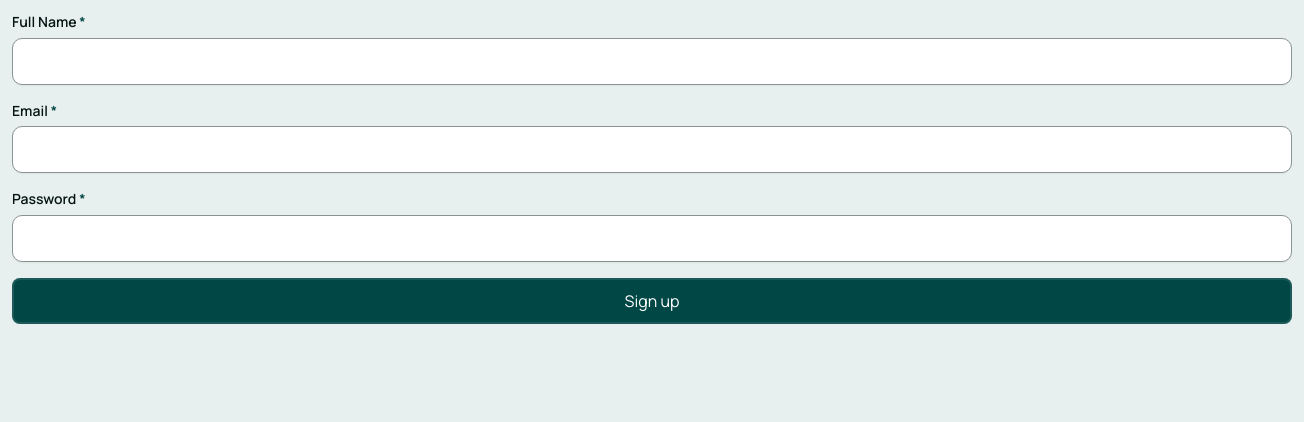
SignUpForm › shows required errors on empty submit
Click the button "Sign up": {"x": 652, "y": 301} [12,278,1292,324]
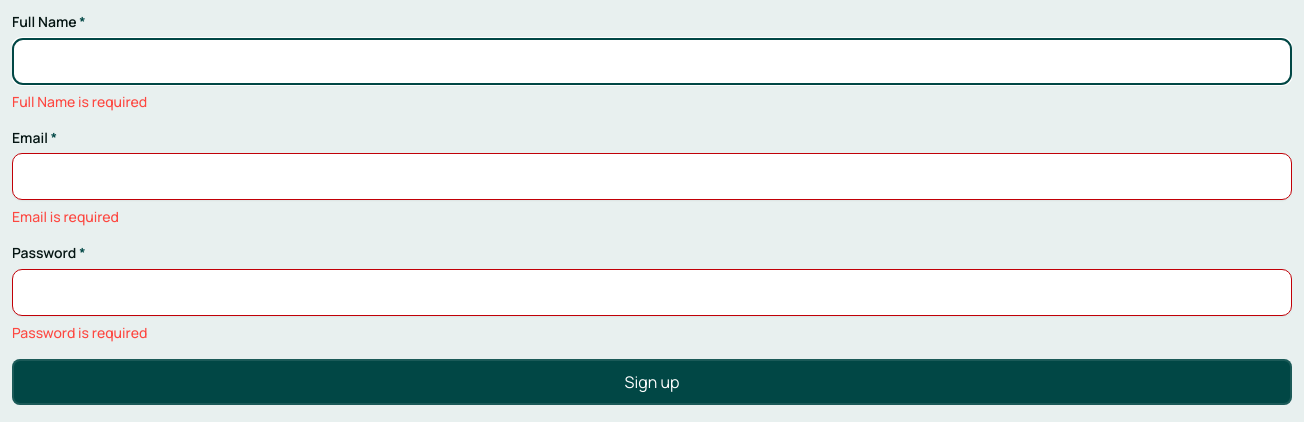
Check: the text "Full Name is required" is shown, box [12,92,147,111]
Check: the text "Email is required" is shown, box [12,207,119,226]
Check: the text "Password is required" is shown, box [12,323,147,342]
